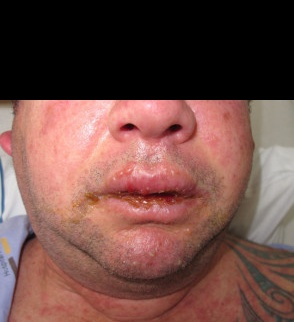SJS-TEN: (1, 98, 294, 322)
